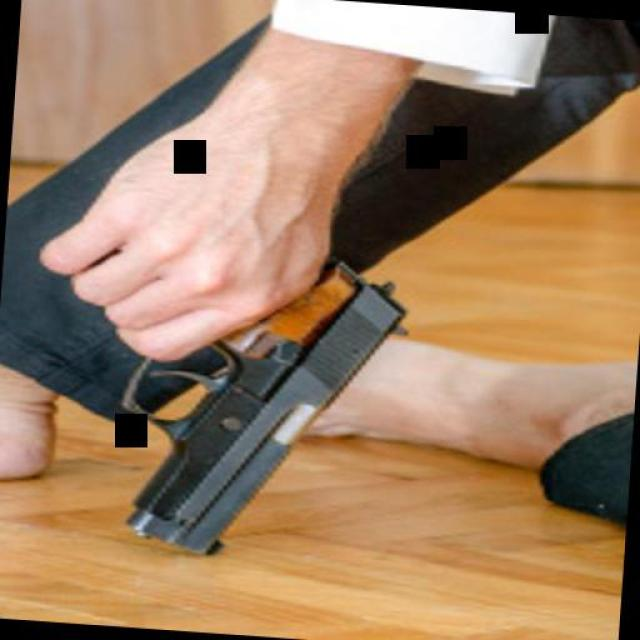gun: (71, 238, 416, 568)
